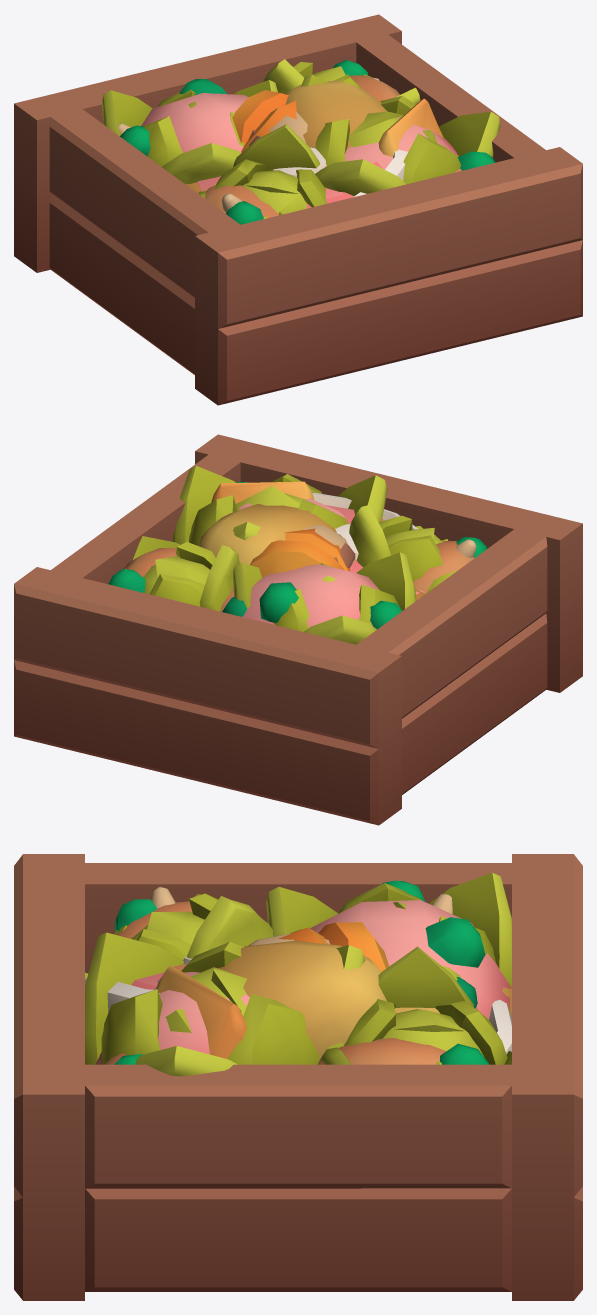
File: food_market.glb
3 views of the same model, one above another, from view 1: azimuth 30°, elevation 25°; view 2: azimuth 150°, elevation 25°; view 3: azimuth 270°, elevation 25° (orthographic). The views are drawn at different scales.
Parts seen in each view (by area): view 1: crate, crate_lettuce, crate_ham, crate_carrots, crate_potatoes, crate_buns, crate_cheese, crate_steak, crate_onions; view 2: crate, crate_lettuce, crate_carrots, crate_ham, crate_potatoes, crate_buns, crate_cheese, crate_steak, crate_onions; view 3: crate, crate_lettuce, crate_potatoes, crate_ham, crate_carrots, crate_cheese, crate_buns, crate_steak, crate_onions.
Boxes of the visible parts, x1,y1,x2,y2 form: crate: (14,14,582,405); crate_lettuce: (101,59,500,219); crate_ham: (141,93,457,169); crate_carrots: (120,60,495,224); crate_potatoes: (186,80,387,193); crate_buns: (205,75,461,217); crate_cheese: (378,98,443,156); crate_steak: (197,147,407,208); crate_onions: (118,77,379,212); crate: (14,434,582,825); crate_lettuce: (133,465,457,644); crate_carrots: (108,481,487,629); crate_ham: (239,498,379,627); crate_potatoes: (199,504,425,600); crate_buns: (124,541,474,611); crate_cheese: (211,481,314,503); crate_steak: (312,492,424,594); crate_onions: (125,524,476,624); crate: (14,854,582,1300); crate_lettuce: (85,872,511,1076); crate_potatoes: (199,940,511,1059); crate_ham: (95,900,511,1064); crate_carrots: (114,880,489,1064); crate_cheese: (155,965,246,1058); crate_buns: (105,901,480,1064); crate_steak: (85,956,511,1054); crate_onions: (98,886,452,1064).
Size of the model in its own units: 0.8 by 0.5162 by 0.8.
Materials: 1 (1 with a texture image).
